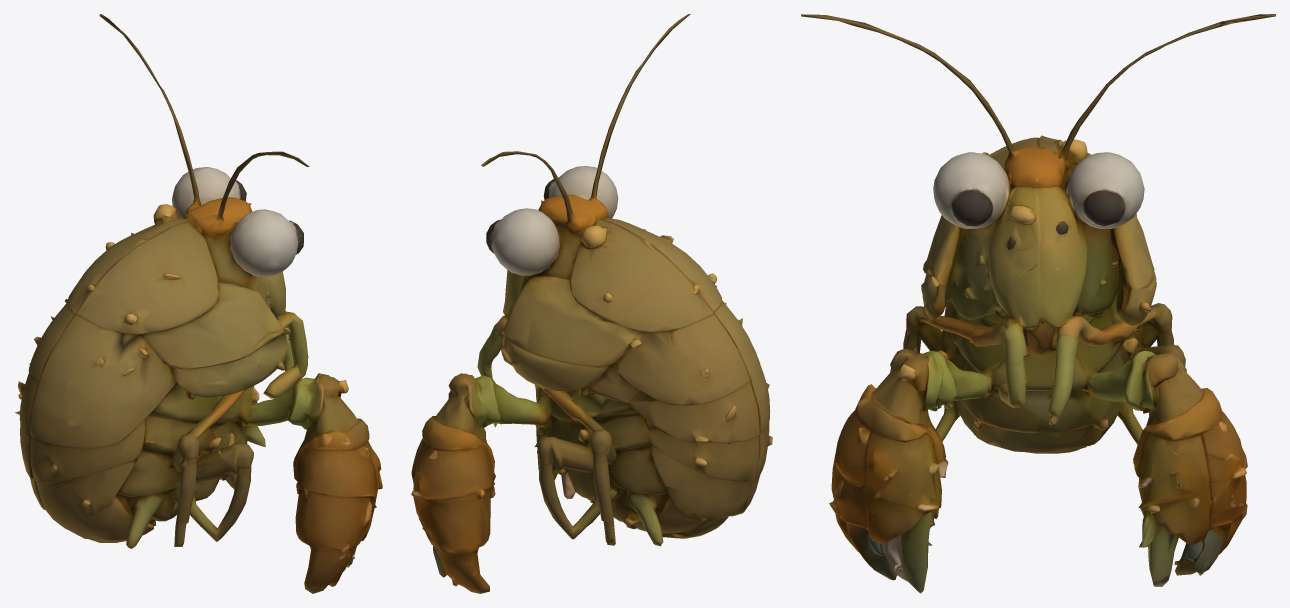
The model's file is head.glb.
The picture shows the model from 3 angles, left to right: view 1: azimuth 30°, elevation 25°; view 2: azimuth 150°, elevation 25°; view 3: azimuth 270°, elevation 25°; orthographic projection. The views are drawn at different scales.
Parts seen in each view (by area): view 1: tripo_node_5d982cfc-2ff2-41ce-a7ae-c56b98e7d642; view 2: tripo_node_5d982cfc-2ff2-41ce-a7ae-c56b98e7d642; view 3: tripo_node_5d982cfc-2ff2-41ce-a7ae-c56b98e7d642.
Boxes of the visible parts, bbox=[...] form: tripo_node_5d982cfc-2ff2-41ce-a7ae-c56b98e7d642: bbox=[15, 14, 382, 593]; tripo_node_5d982cfc-2ff2-41ce-a7ae-c56b98e7d642: bbox=[411, 14, 772, 593]; tripo_node_5d982cfc-2ff2-41ce-a7ae-c56b98e7d642: bbox=[801, 14, 1275, 593].
Size of the model in its own units: 0.6413 by 1 by 0.8051.
Materials: 1 (1 with a texture image).
